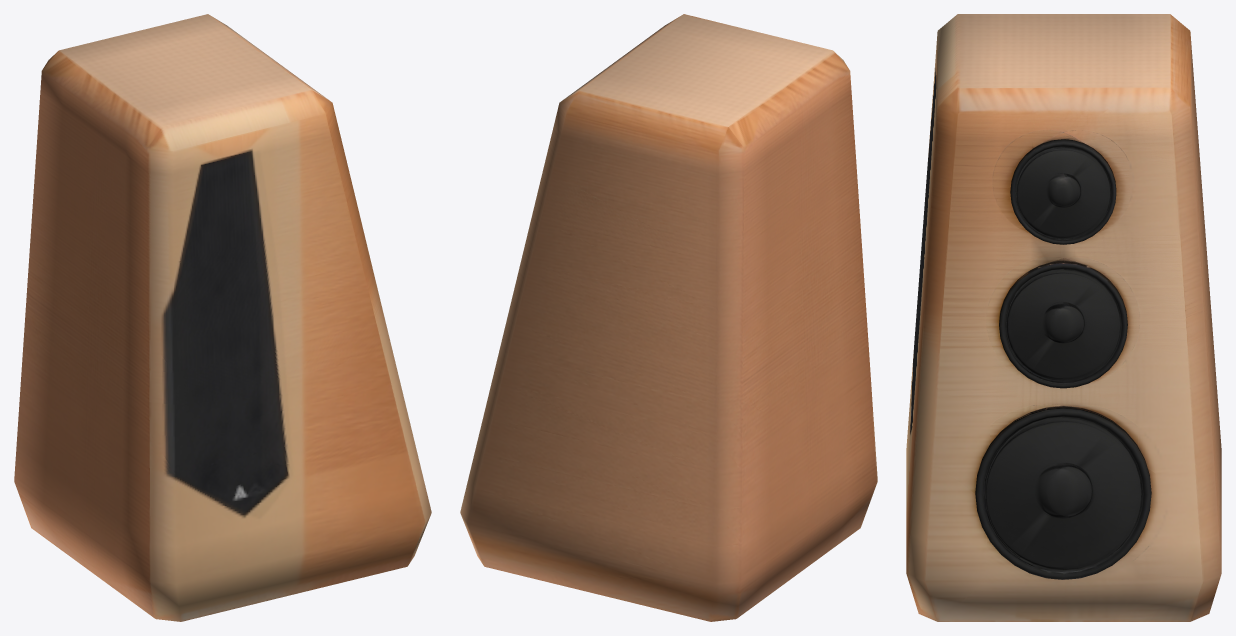
Rendered from 1-speaker-Eidolon.glb.
The picture shows the model from 3 angles, left to right: view 1: azimuth 30°, elevation 25°; view 2: azimuth 150°, elevation 25°; view 3: azimuth 270°, elevation 25°; orthographic projection.
Bounding box in the file's own units: 1.27 × 2 × 1.17.
1 material, 1 textured.
